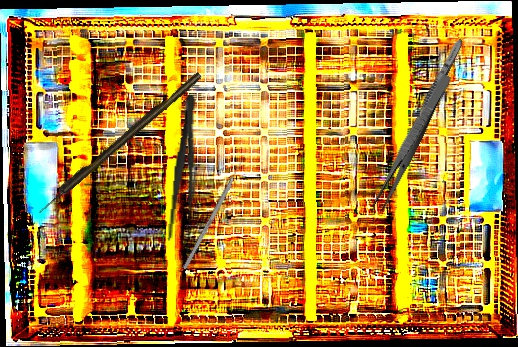Dressing Forceps: (370, 71, 453, 213), (399, 35, 467, 156), (166, 94, 204, 254)
Hook Surgical: (34, 71, 204, 215)
Pusher: (182, 152, 248, 271)
